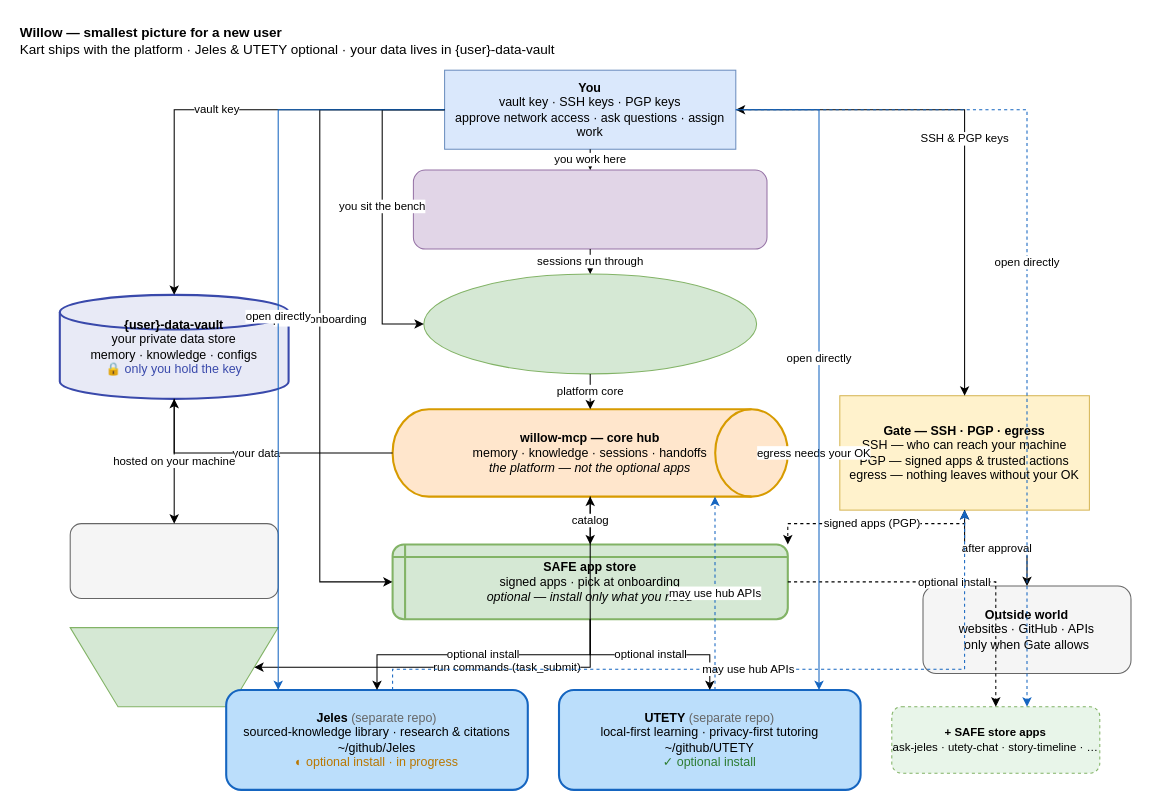
Image size: 1149x808. Some labels were removed from this diagram. The centre of each missing label's shape, as x and y in pixels:
Kart run shell work in a sandbox ✓ ships with platform: [173,667]
Willow your orchestrator bench assign agents · review work · hand off context: [590,323]
Your computer local AI models your files and repos: [173,561]
Your tools Cursor · Claude Code · Discord where you type — not who the agent is: [589,209]
